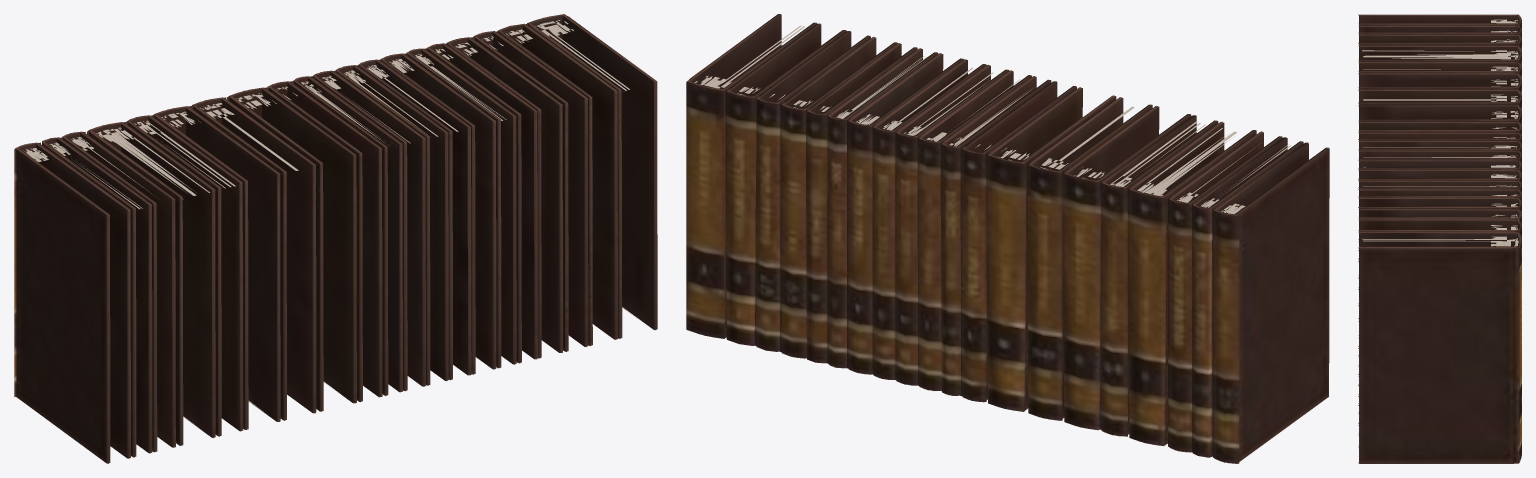
Rendered from obj_books.glb.
3 views of the same model, side by side, from view 1: azimuth 30°, elevation 25°; view 2: azimuth 150°, elevation 25°; view 3: azimuth 270°, elevation 25° (orthographic). The views are drawn at different scales.
Parts seen in each view (by area): view 1: obj_books; view 2: obj_books; view 3: obj_books.
Part boxes in pixels (left/top/right/bottom): obj_books: left=14, top=14, right=657, bottom=463; obj_books: left=686, top=14, right=1329, bottom=463; obj_books: left=1358, top=14, right=1521, bottom=463.
Bounding box in the file's own units: 0.5531 × 0.2374 × 0.1635.
Materials: 2 (2 with a texture image).
